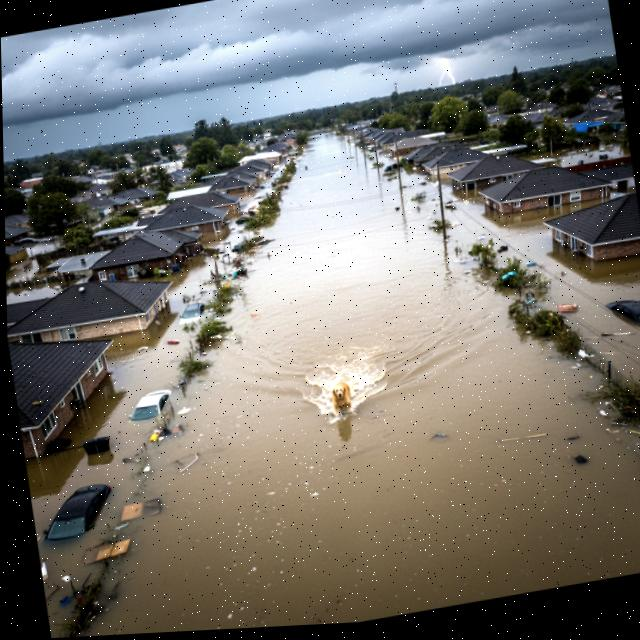dog: (320, 373, 366, 424)
